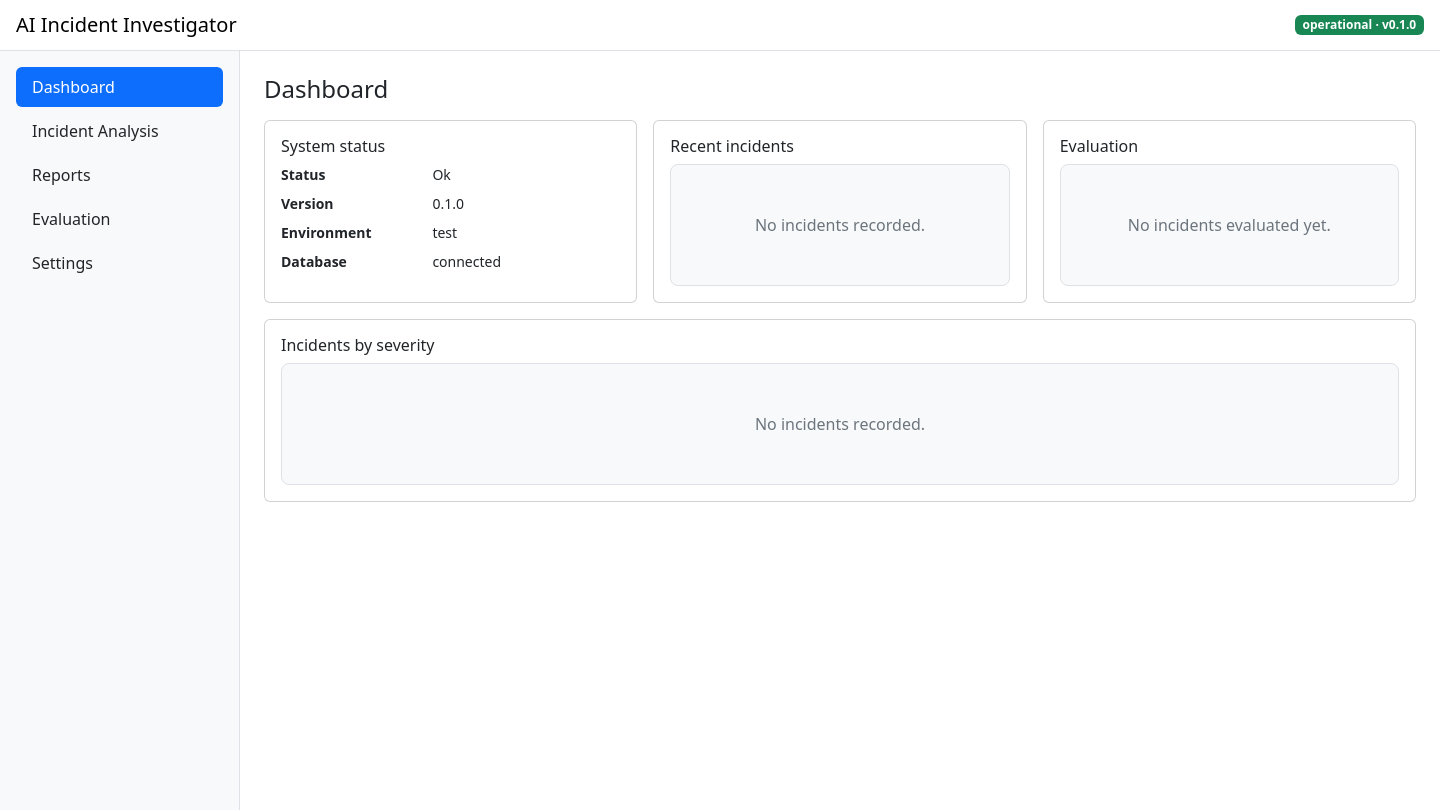
Test: App routing › navigates to every top-level page from the sidebar
The image size is (1440, 810).
Expected: the heading "Dashboard" is shown, [264, 72, 388, 105]
Click the link "Incident Analysis": (95, 131) [32, 120, 159, 142]
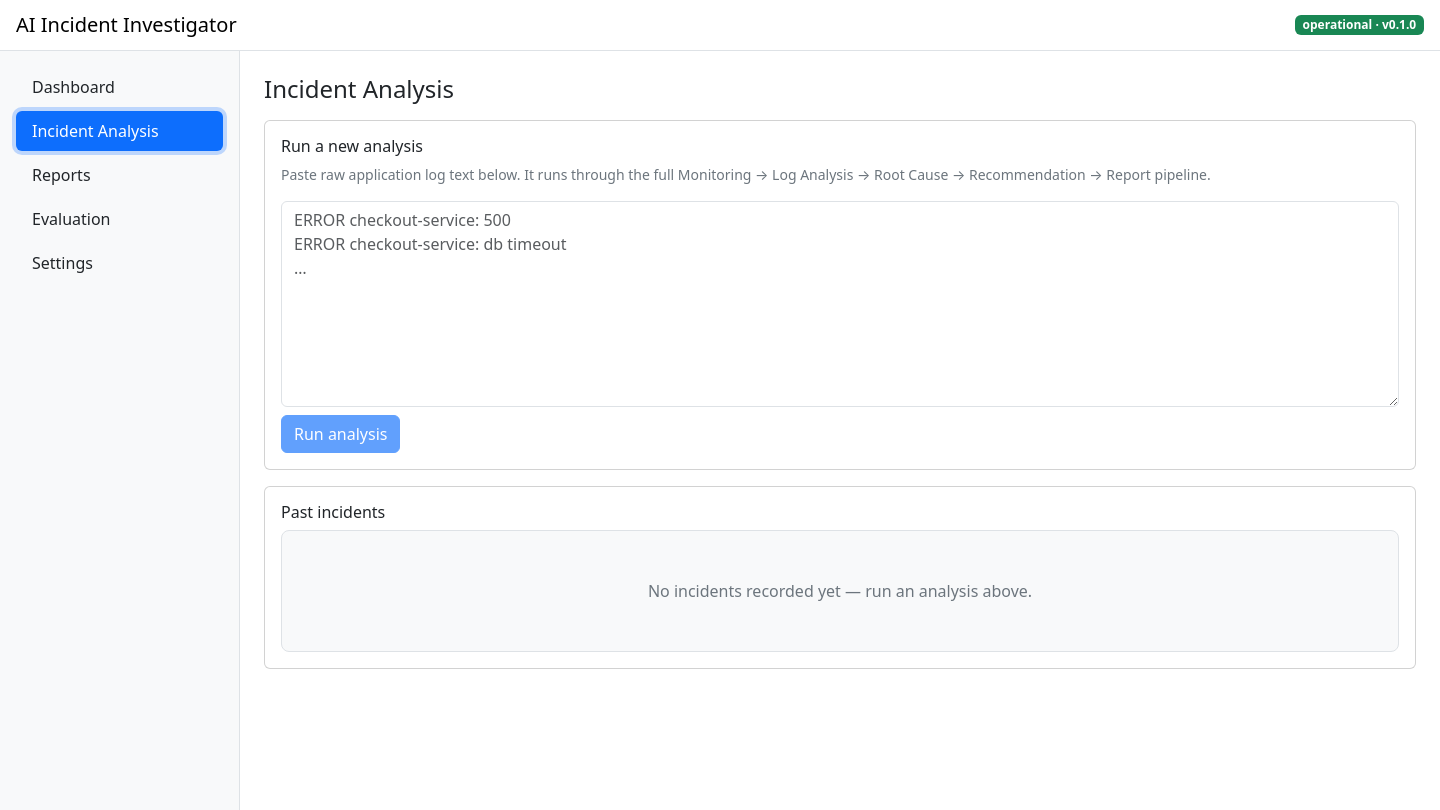
Expected: the heading "Incident Analysis" is shown, [264, 72, 454, 105]
Click the link "Reports": (61, 175) [32, 164, 90, 186]
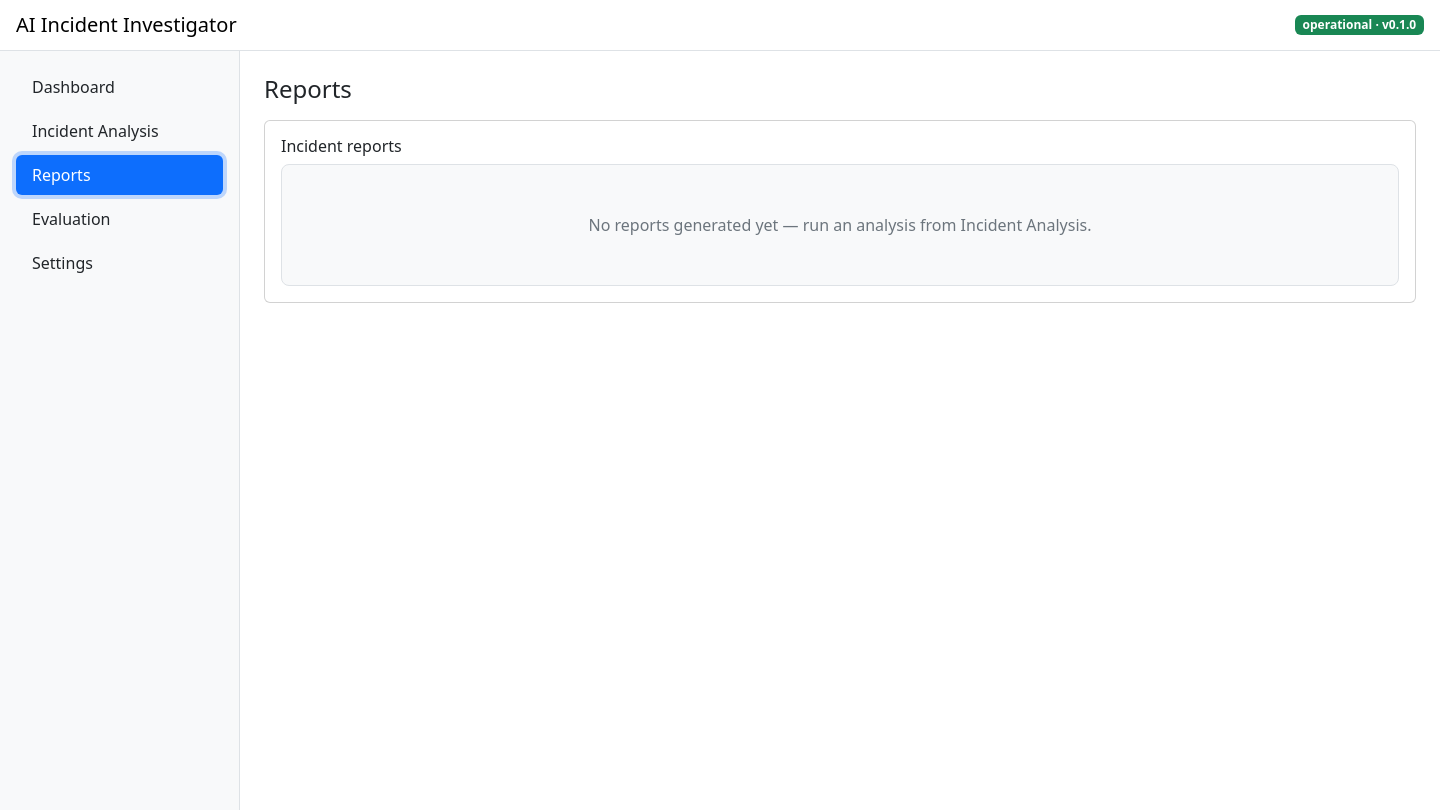
Expected: the heading "Reports" is shown, [264, 72, 352, 105]
Click the link "Evaluation": (71, 219) [32, 208, 110, 230]
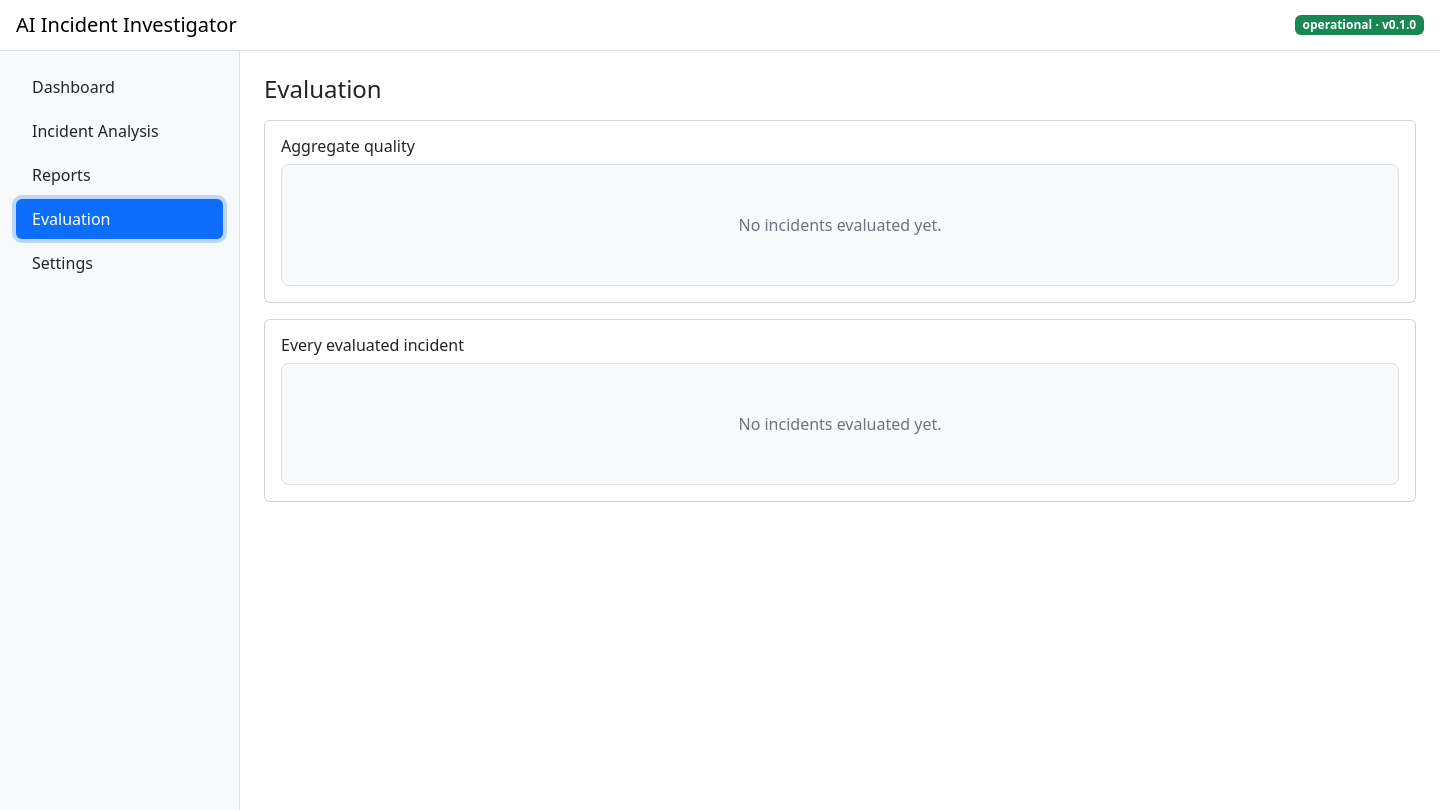
Expected: the heading "Evaluation" is shown, [264, 72, 382, 105]
Click the link "Settings": (62, 263) [32, 252, 93, 274]
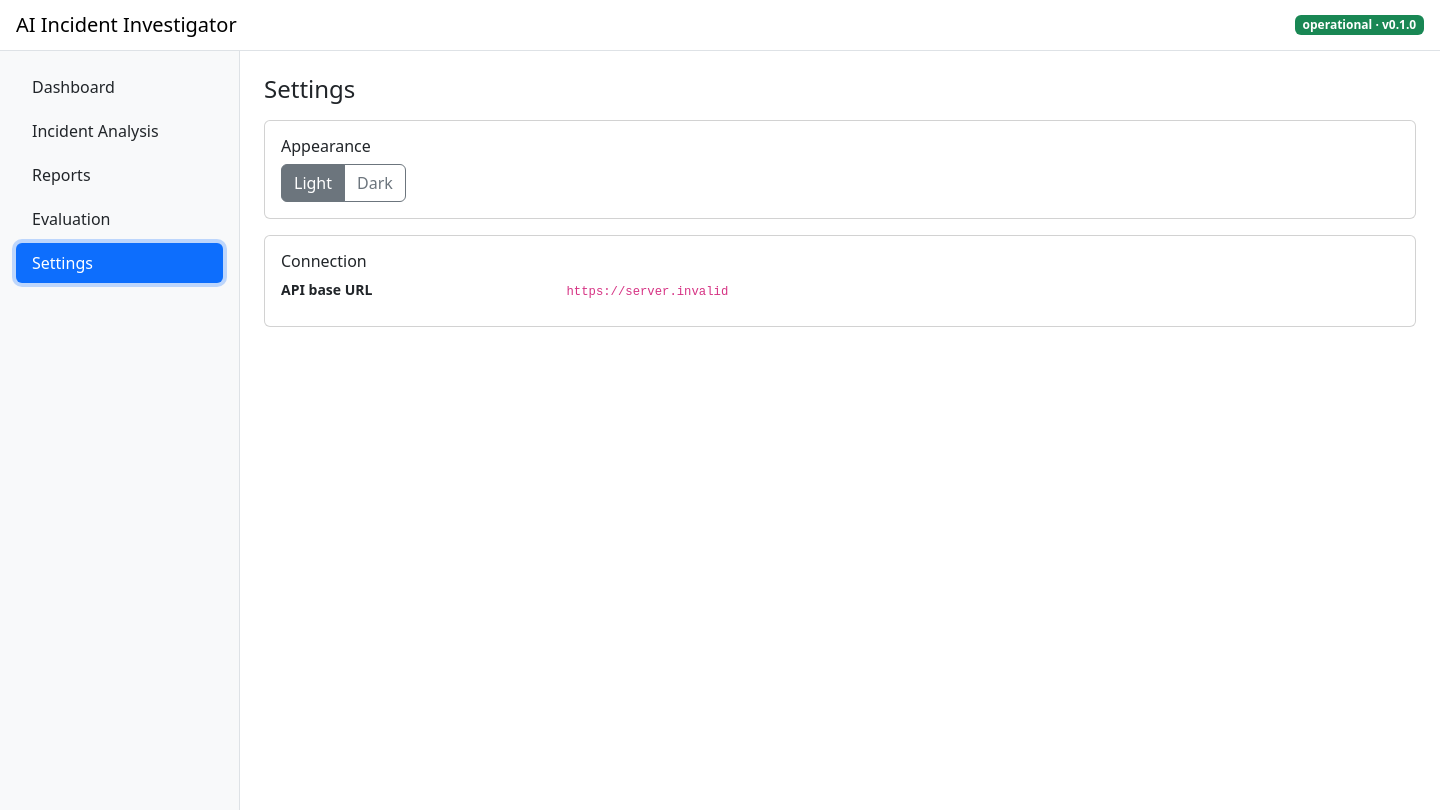
Expected: the heading "Settings" is shown, [264, 72, 355, 105]
Click the link "Dashboard": (73, 87) [32, 76, 115, 98]
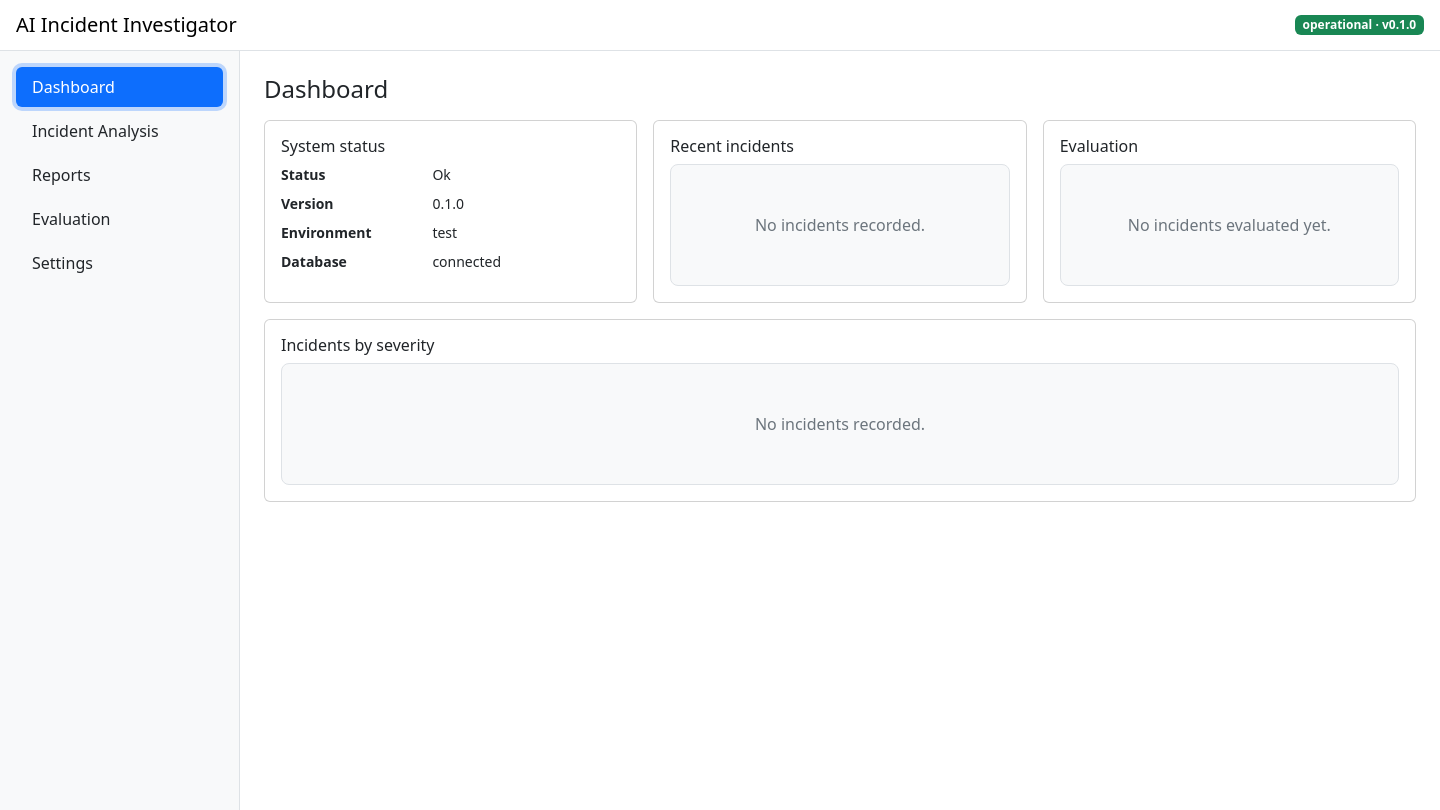
Expected: the heading "Dashboard" is shown, [264, 72, 388, 105]
